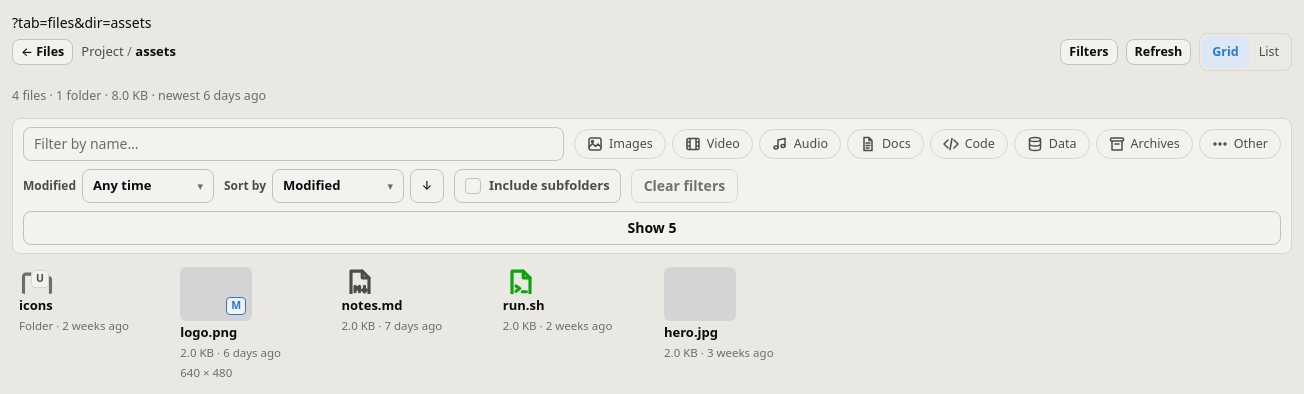
Test: FolderView › filters by type and by name, and keeps the view in the address
The width and height of the screenshot is (1304, 394).
expect the text "4 files · 1 folder · 8.0 KB · newest 6 days ago" is shown: met, box [12, 87, 266, 104]
Click the button "Images" at (620, 144), box [574, 129, 666, 159]
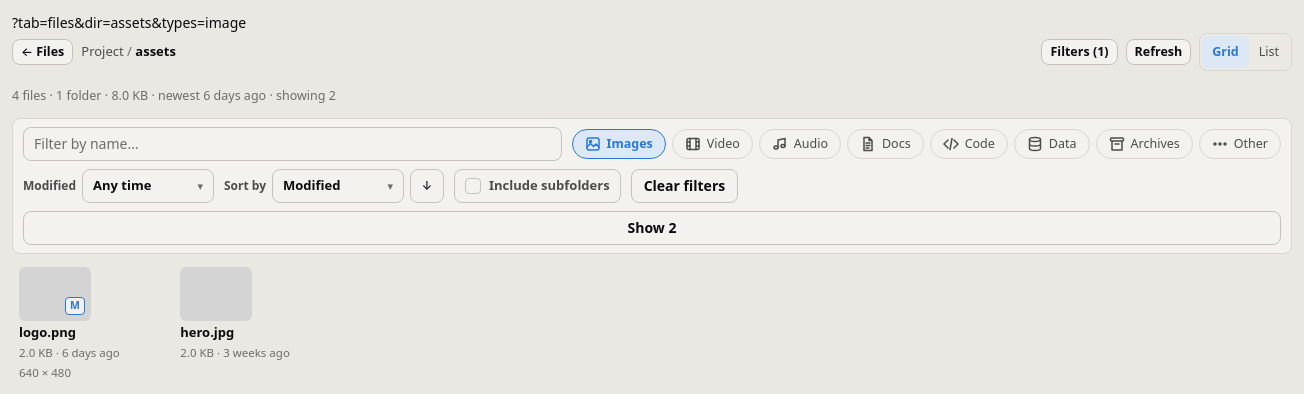
expect the text with test id "where" shows "types=image": met, box [12, 13, 246, 32]
Type "hero" into the search field labelled "Filter by name" at (292, 144), box [23, 127, 562, 161]
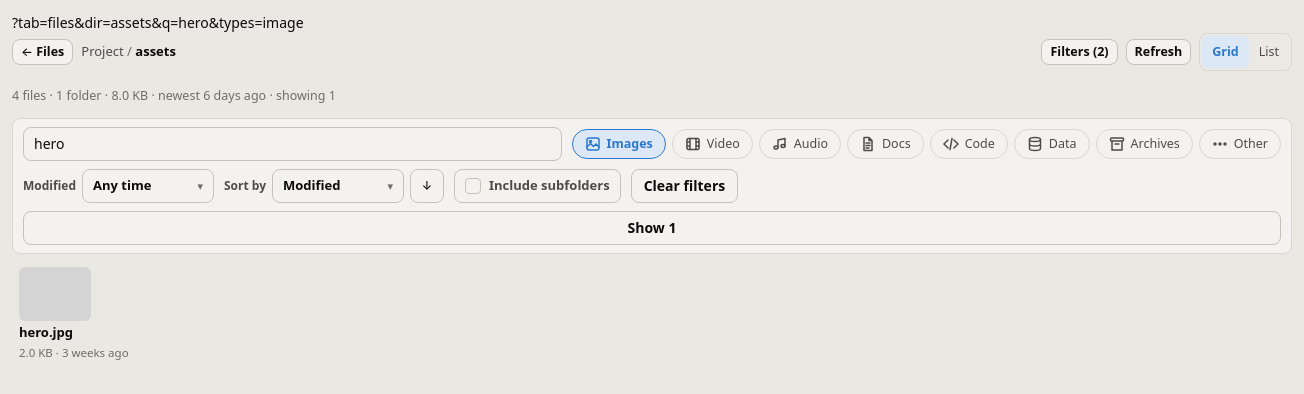
expect the text with test id "where" shows "q=hero": met, box [12, 13, 304, 32]
Click the button "Clear filters" at (684, 186), box [631, 169, 738, 203]
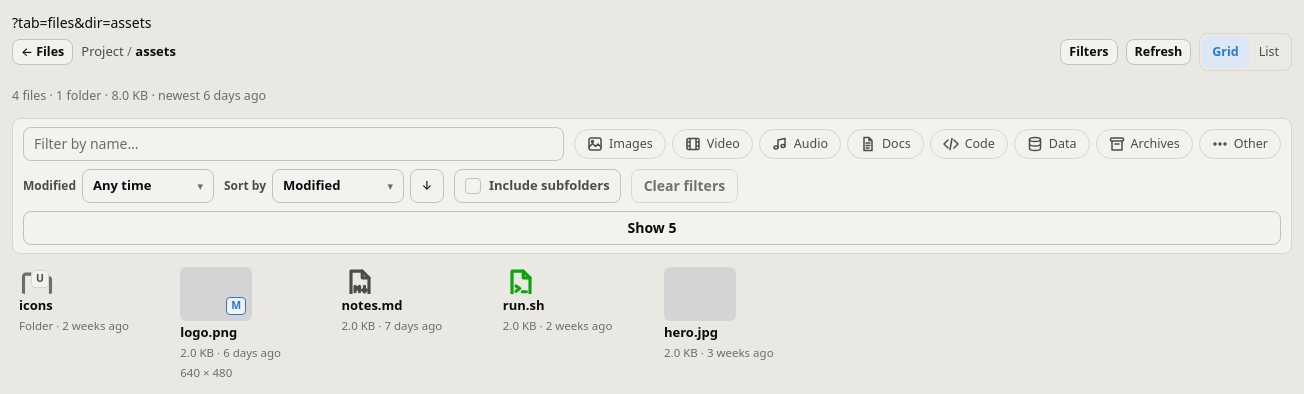
expect the text with test id "where" no longer shows "types=": met
